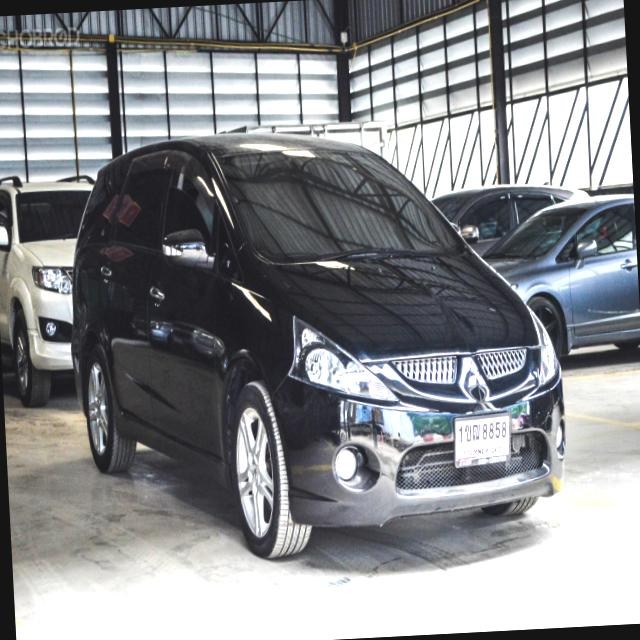license_plate: (452, 409, 514, 472)
